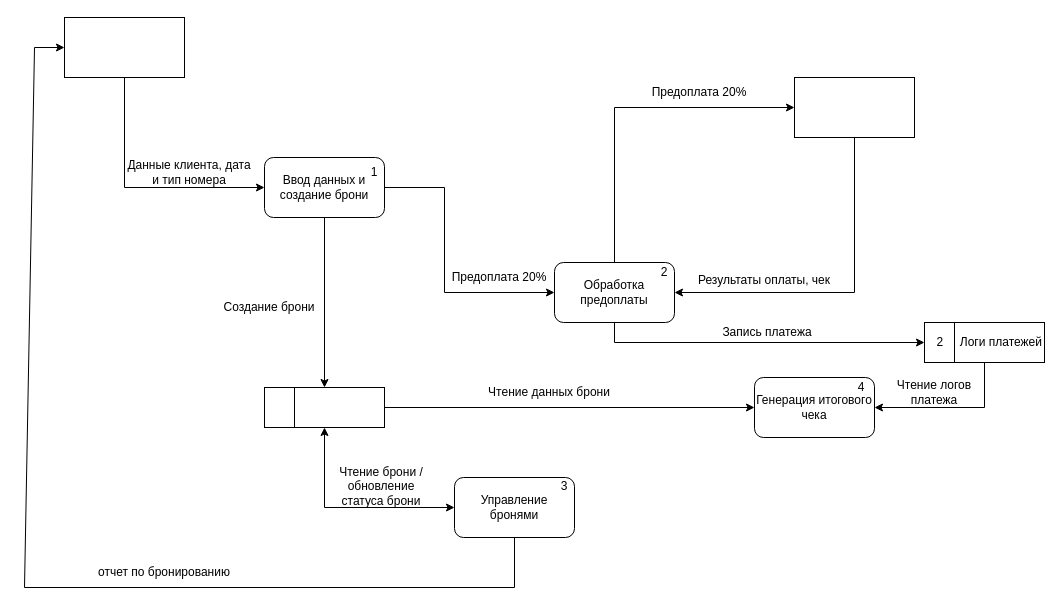
The diagram is 1062 pixels wide and 613 high, and some of its shapes have lost their labels. The shapes that lost their labels are listed below. From the top down, each one's centre as x and y in pixels, then its label:
(124,47): Клиент
(854,107): Платежный шлюз
(324,407): 1 Бронировнаие
